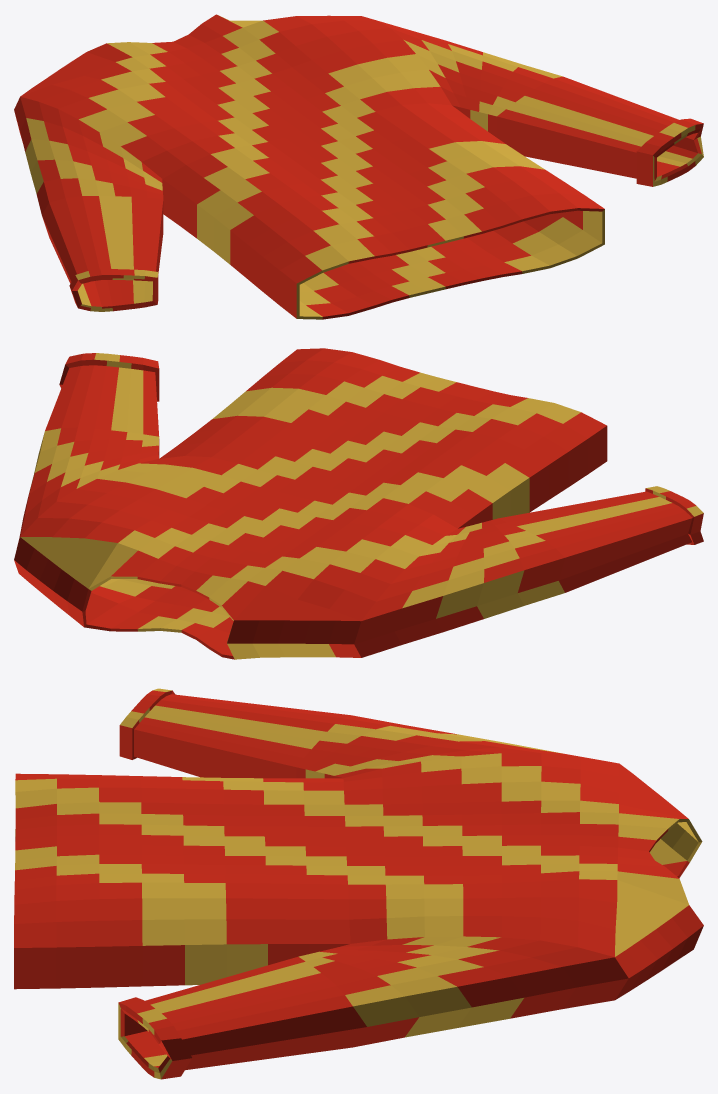
Rendered from Shirt 9.fbx.
3 views of the same model, one above another, from view 1: azimuth 30°, elevation 25°; view 2: azimuth 150°, elevation 25°; view 3: azimuth 270°, elevation 25° (orthographic). The views are drawn at different scales.
Parts seen in each view (by area): view 1: Node 0; view 2: Node 0; view 3: Node 0.
Part boxes in pixels (x1,y1,x2,y2): Node 0: [14, 14, 703, 319]; Node 0: [14, 348, 703, 659]; Node 0: [14, 688, 703, 1079].
Size of the model in its own units: 1.07 by 0.1419 by 1.31.
